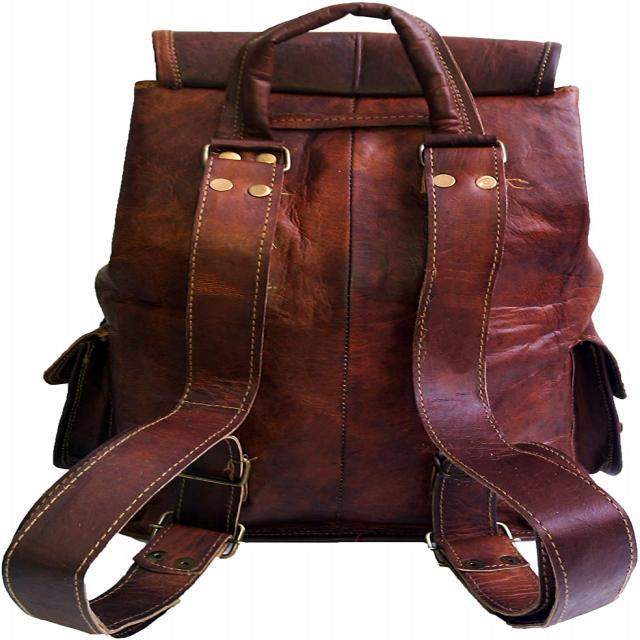Backpacks: (57, 27, 605, 544)
